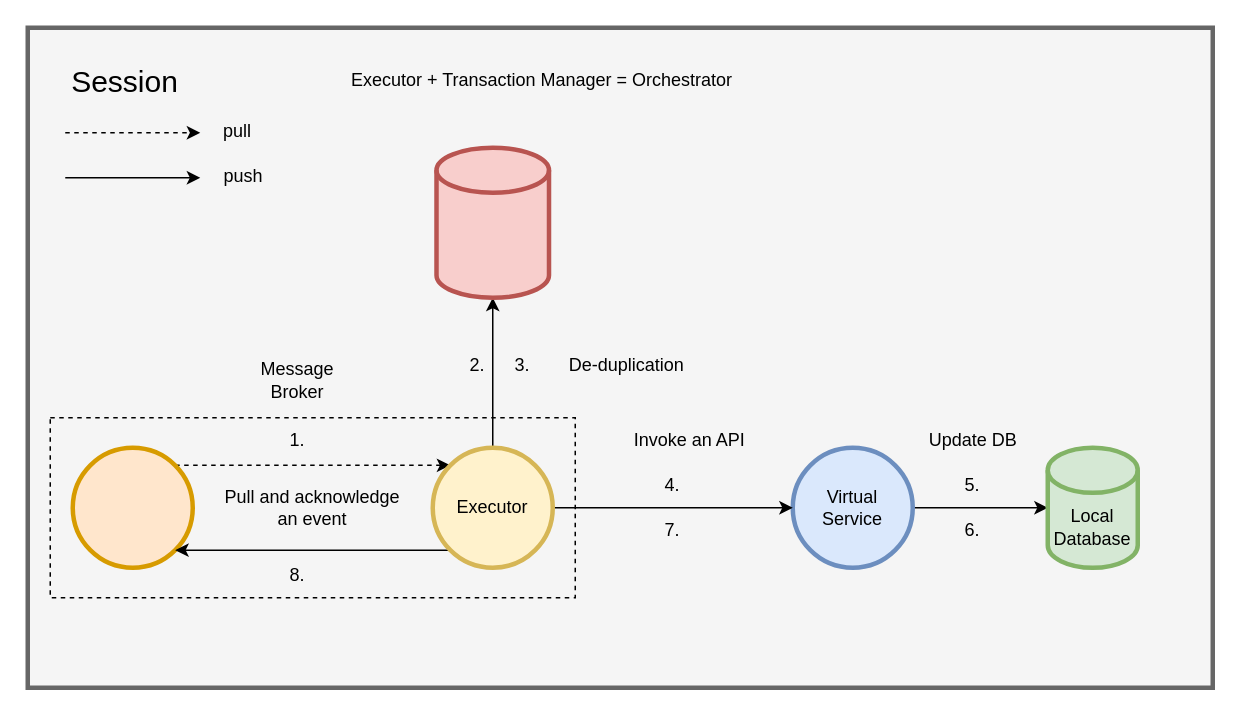
Image size: 1241x716. Some labels were removed from this diagram. Here are the shapes that lost their labels. From the top down, the centre of each, then its label:
(492,222): Transaction Manager
(132,507): Message Queue
